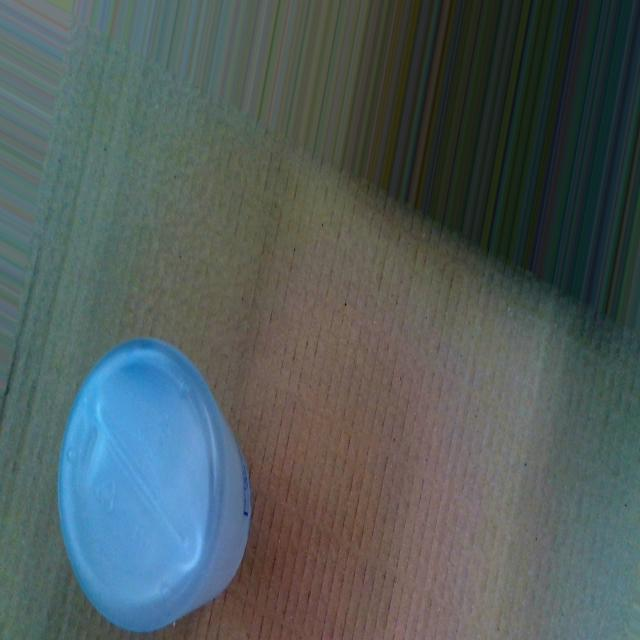bottle: (55, 332, 254, 640)
